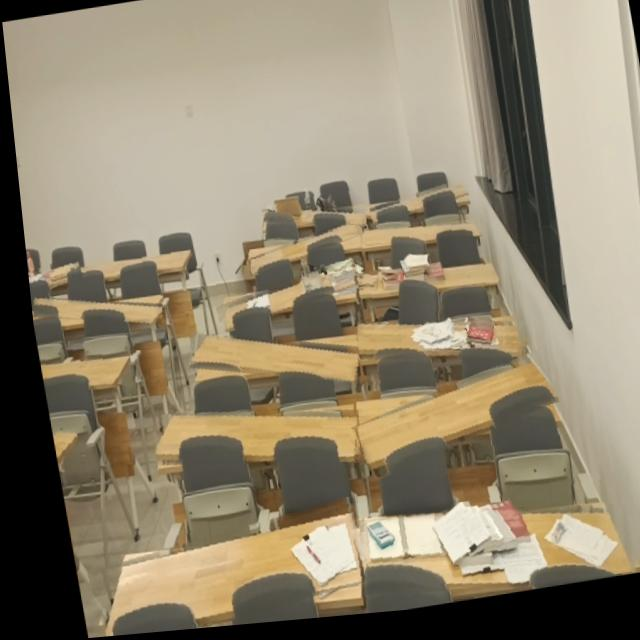Non-empty: (94, 513, 351, 637), (350, 523, 619, 591), (216, 265, 348, 334), (350, 330, 516, 365), (351, 268, 491, 302), (258, 208, 362, 231), (22, 258, 70, 297)
empty: (348, 368, 548, 471), (147, 416, 350, 468), (181, 338, 351, 388), (246, 226, 355, 278), (63, 253, 184, 287), (363, 191, 463, 230), (26, 299, 155, 327), (36, 351, 127, 386), (359, 227, 475, 251), (46, 432, 67, 466)
